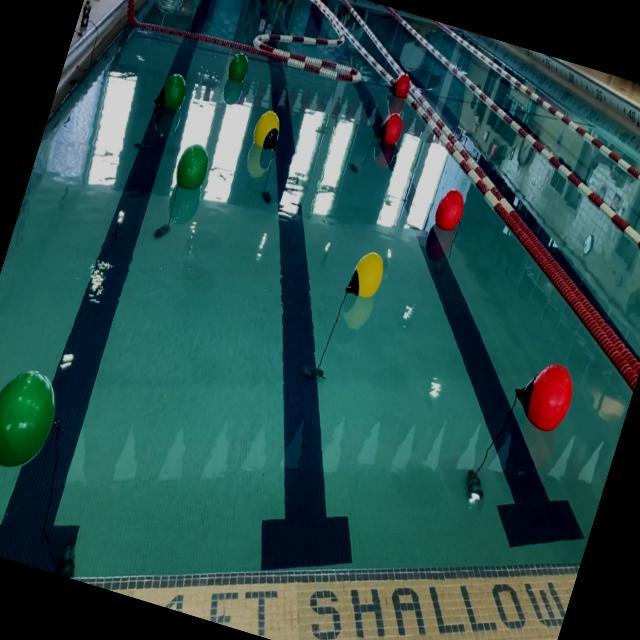buoy: (0, 358, 69, 478), (508, 352, 580, 436), (344, 245, 389, 303), (172, 140, 215, 194), (152, 68, 192, 118), (429, 184, 469, 233), (248, 106, 286, 155), (371, 107, 407, 150), (224, 50, 252, 87), (385, 68, 414, 102)
